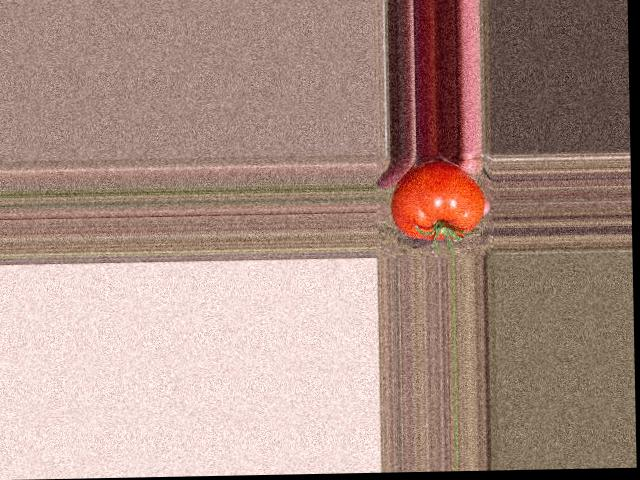tomato: (390, 160, 485, 241)
